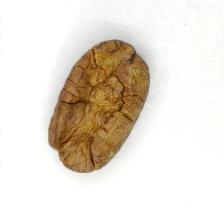NG: (67, 50, 130, 166)
